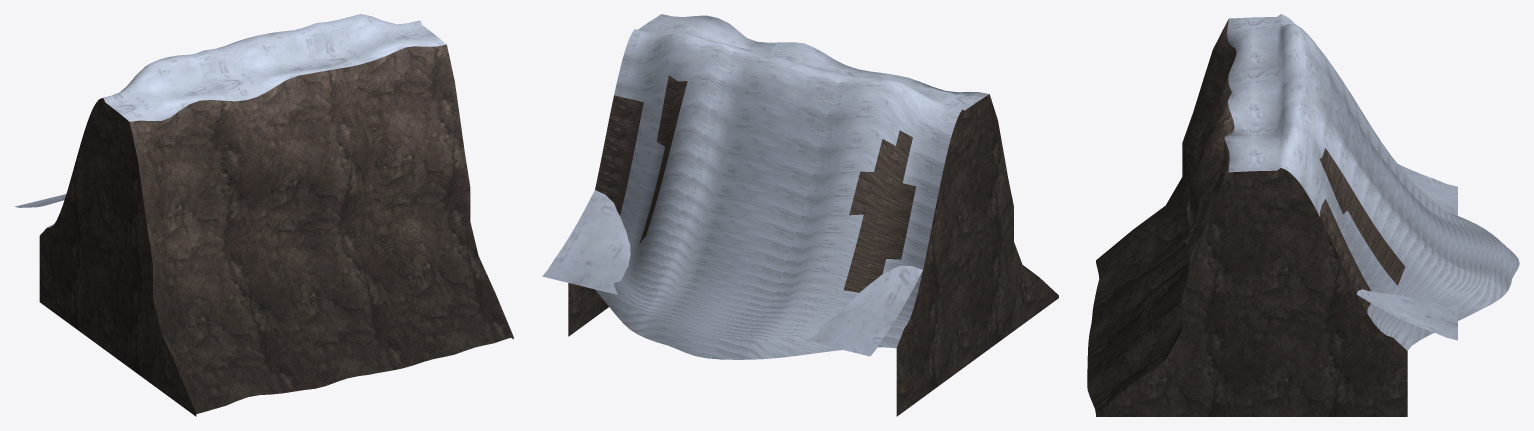
The model's file is seacliff_straight6c_h3_v5_winter.glb.
3 renders of one model, left to right at view 1: azimuth 30°, elevation 25°; view 2: azimuth 150°, elevation 25°; view 3: azimuth 270°, elevation 25°, orthographic. The views are drawn at different scales.
Parts seen in each view (by area): view 1: seacliff_straight6c_h3; view 2: seacliff_straight6c_h3; view 3: seacliff_straight6c_h3.
Boxes of the visible parts, <box> form: seacliff_straight6c_h3: <box>15,14,513,416</box>; seacliff_straight6c_h3: <box>542,14,1058,416</box>; seacliff_straight6c_h3: <box>1087,14,1519,416</box>.
Bounding box in the file's own units: 6 × 4.84 × 7.13.
Materials: 2 (2 with a texture image).
